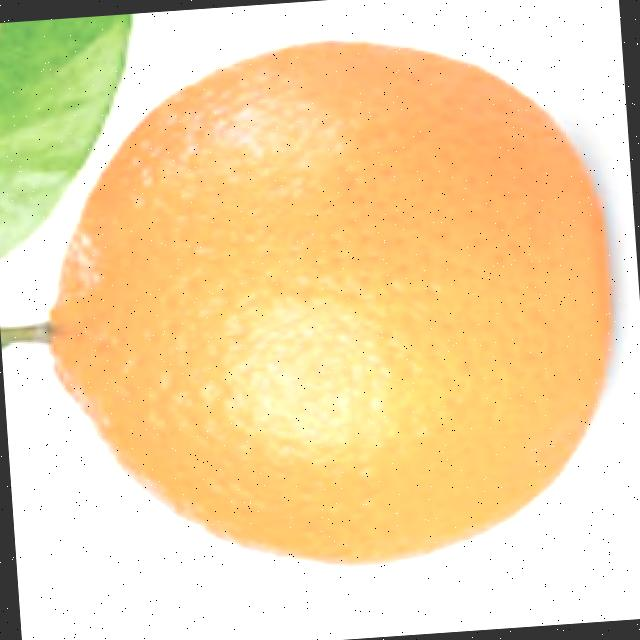orange: (24, 19, 630, 590)
